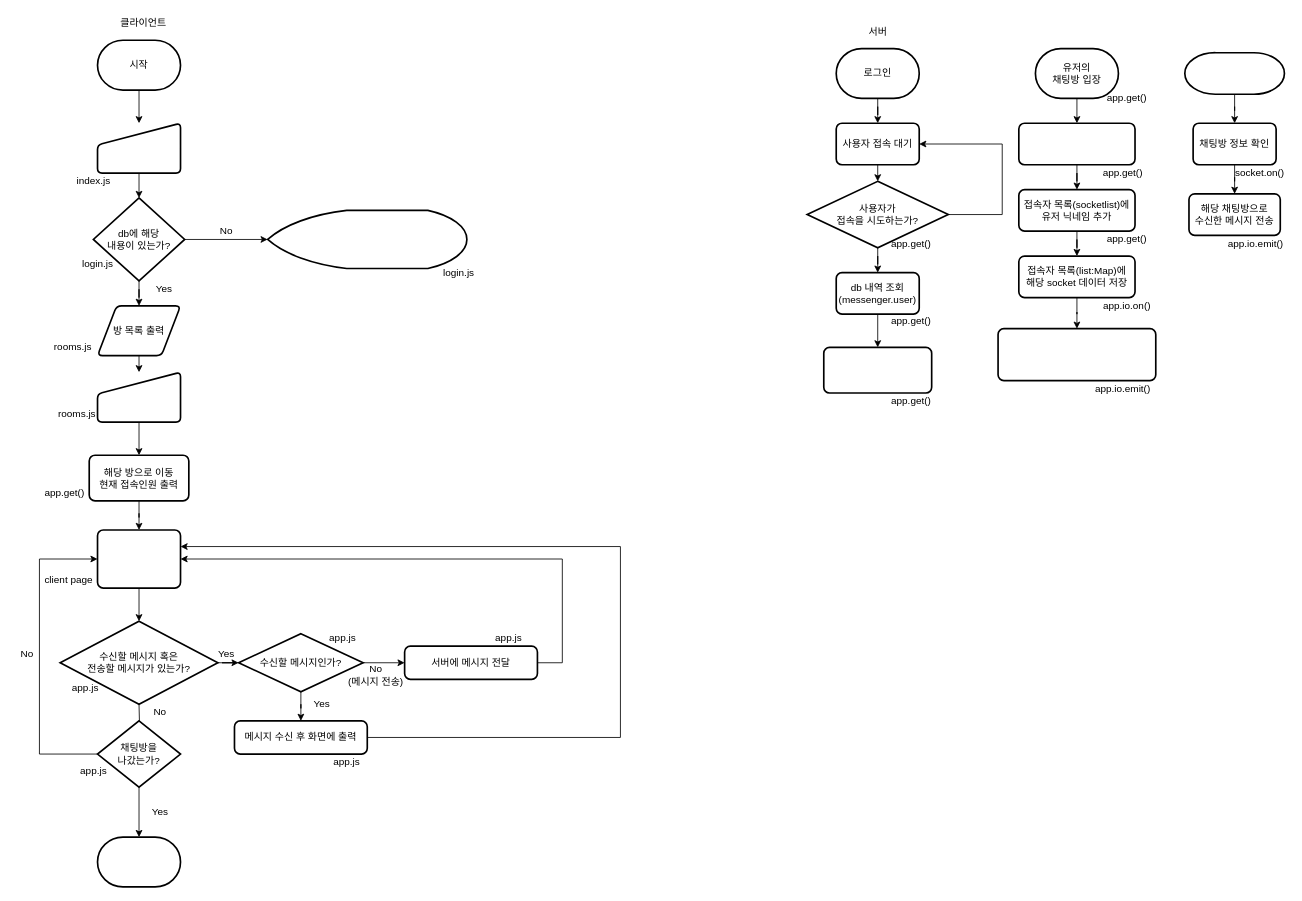
This 1302x901 diagram has some shape labels left out. The centre of each missing label's shape, as x and y in pixels:
"'아이디 혹은 비밀번호가 잘못되었거나 존재하지 않는 계정입니다.'" goes at pixel 366 239.
"db로부터 해당 채팅방 현재 접속자 목록 조회 후 socketlist에 저장" goes at pixel 1076 143.
"id,password 입력" goes at pixel 138 147.
"방 번호 선택" goes at pixel 138 396.
"유저가 접속한 채팅창에 접속한 모든 유저에게 변경한 접속자 명단 전송" goes at pixel 1076 354.
"종료" goes at pixel 138 861.
"채팅 수신 및 발송 대기" goes at pixel 138 558.
"클라이언트로부터 메시지 수신" goes at pixel 1234 73.
"클라이언트에 결과 전달" goes at pixel 877 369.
